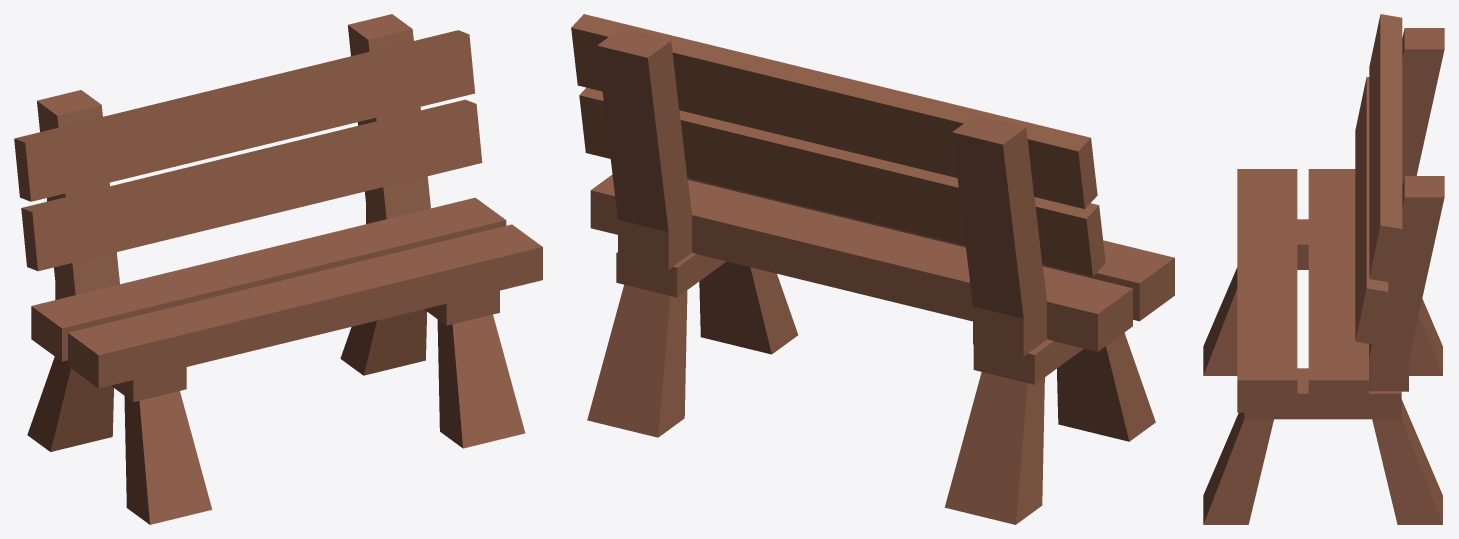
The model's file is Silla.fbx.
3 renders of one model, left to right at view 1: azimuth 30°, elevation 25°; view 2: azimuth 150°, elevation 25°; view 3: azimuth 270°, elevation 25°, orthographic. The views are drawn at different scales.
Visible parts, largest first — view 1: Silla; view 2: Silla; view 3: Silla.
Boxes of the visible parts, x1,y1,x2,y2 form: Silla: (14, 14, 542, 524); Silla: (571, 14, 1174, 524); Silla: (1203, 14, 1444, 524).
Size of the model in its own units: 280 by 200 by 135.
